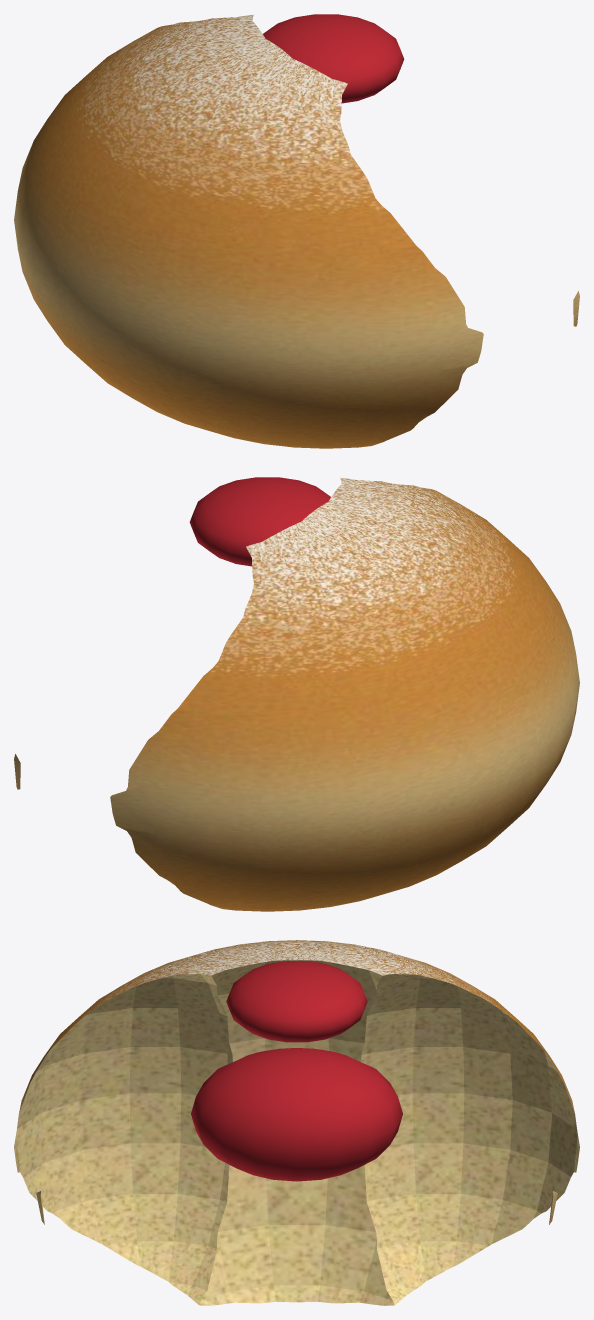
File: sufganiya_bite2.glb
3 views of the same model, one above another, from view 1: azimuth 30°, elevation 25°; view 2: azimuth 150°, elevation 25°; view 3: azimuth 270°, elevation 25° (orthographic). The views are drawn at different scales.
Visible parts, largest first — view 1: Sufganiya_Bite2, Sufganiya_Bite2_JamDot; view 2: Sufganiya_Bite2, Sufganiya_Bite2_JamDot; view 3: Sufganiya_Bite2, Sufganiya_Bite2_JamCore, Sufganiya_Bite2_JamDot.
Boxes of the visible parts, box(x1,y1,x2,y2) form: Sufganiya_Bite2: box(14, 14, 579, 448); Sufganiya_Bite2_JamDot: box(263, 14, 404, 103); Sufganiya_Bite2: box(14, 477, 579, 911); Sufganiya_Bite2_JamDot: box(189, 477, 330, 566); Sufganiya_Bite2: box(14, 940, 579, 1305); Sufganiya_Bite2_JamCore: box(191, 1048, 402, 1181); Sufganiya_Bite2_JamDot: box(226, 961, 367, 1042).
Size of the model in its own units: 0.0623 by 0.0587 by 0.088.
Materials: 3 (2 with a texture image).
